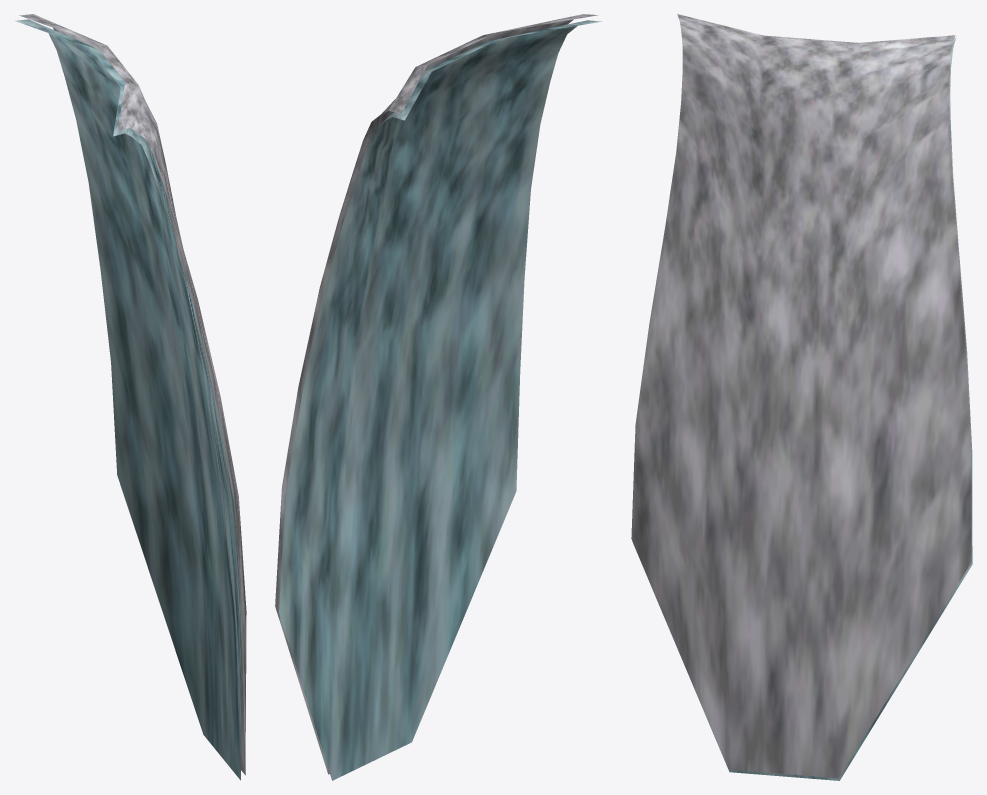
Rendered from TROLLHOLE02_WATERFALLIN02.fbx.
The picture shows the model from 3 angles, left to right: view 1: azimuth 30°, elevation 25°; view 2: azimuth 150°, elevation 25°; view 3: azimuth 270°, elevation 25°; orthographic projection. The views are drawn at different scales.
Parts seen in each view (by area): view 1: TROLLHOLE02_WATERFALLIN02; view 2: TROLLHOLE02_WATERFALLIN02; view 3: TROLLHOLE02_WATERFALLIN02.
Boxes of the visible parts, bbox=[...] form: TROLLHOLE02_WATERFALLIN02: bbox=[15, 14, 246, 780]; TROLLHOLE02_WATERFALLIN02: bbox=[275, 14, 602, 780]; TROLLHOLE02_WATERFALLIN02: bbox=[631, 14, 972, 780].
Bounding box in the file's own units: 31704 × 121126 × 54214.
Materials: 2 (2 with a texture image).
